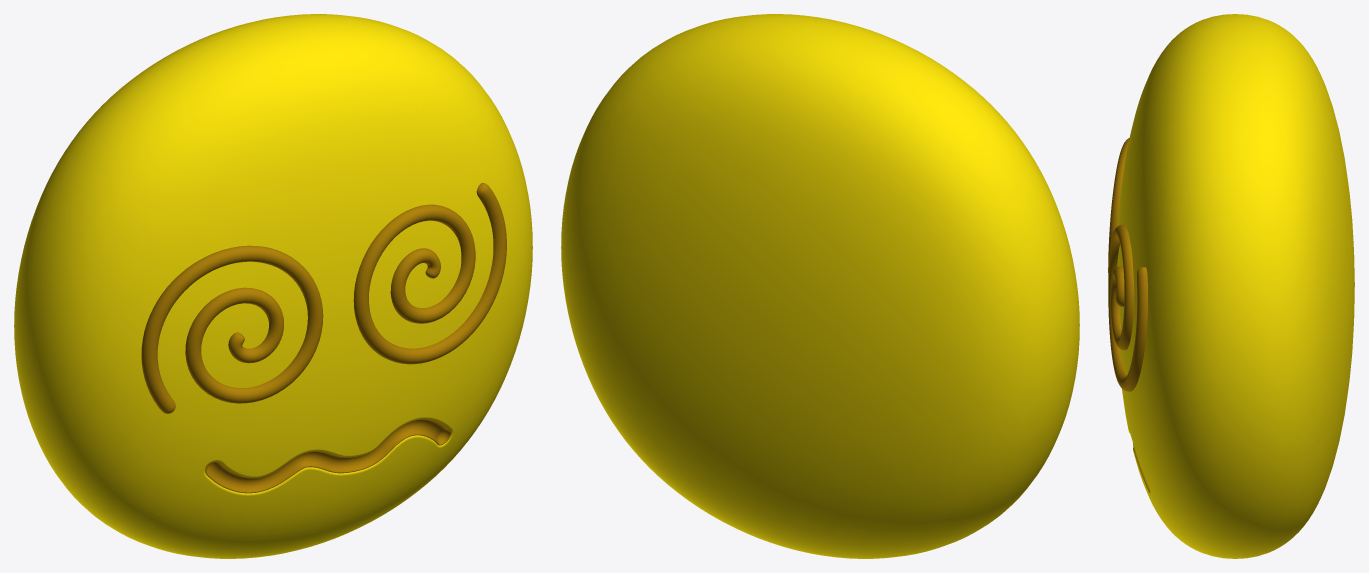
The picture shows the model from 3 angles, left to right: view 1: azimuth 30°, elevation 25°; view 2: azimuth 150°, elevation 25°; view 3: azimuth 270°, elevation 25°; orthographic projection. The views are drawn at different scales.
Visible parts, largest first — view 1: 010_SmileEmoji_A; view 2: 010_SmileEmoji_A; view 3: 010_SmileEmoji_A.
Part boxes in pixels (bbox=[...]): 010_SmileEmoji_A: bbox=[14, 14, 532, 558]; 010_SmileEmoji_A: bbox=[561, 14, 1079, 558]; 010_SmileEmoji_A: bbox=[1108, 14, 1354, 558].
Bounding box in the file's own units: 0.1561 × 0.1561 × 0.0717.
